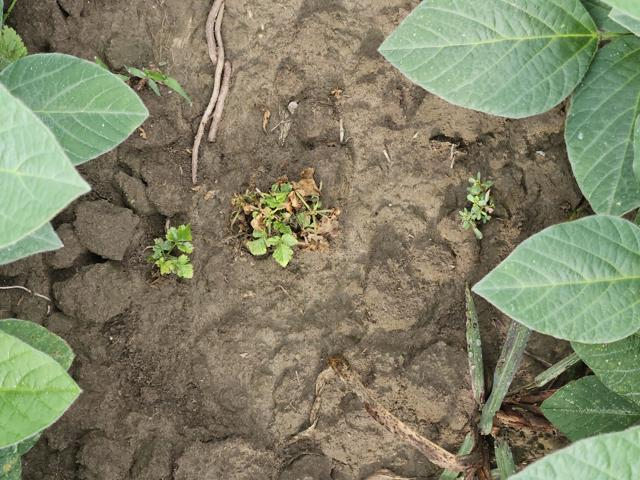bad weed: (416, 305, 521, 475), (227, 178, 339, 258), (111, 36, 186, 101), (151, 214, 206, 284), (454, 164, 505, 238)
